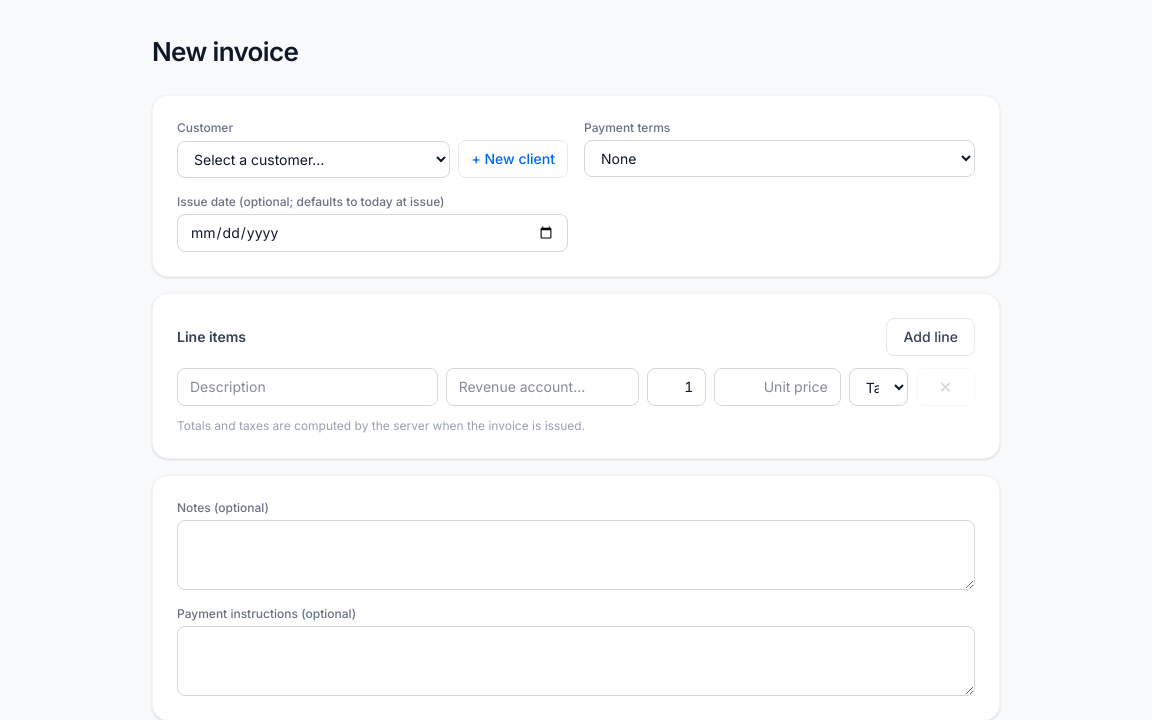
InvoiceForm revenue-account picker › offers revenue accounts only
Click the dropdown labelled "Revenue account".
click(542, 387)  # box [446,368,639,406]
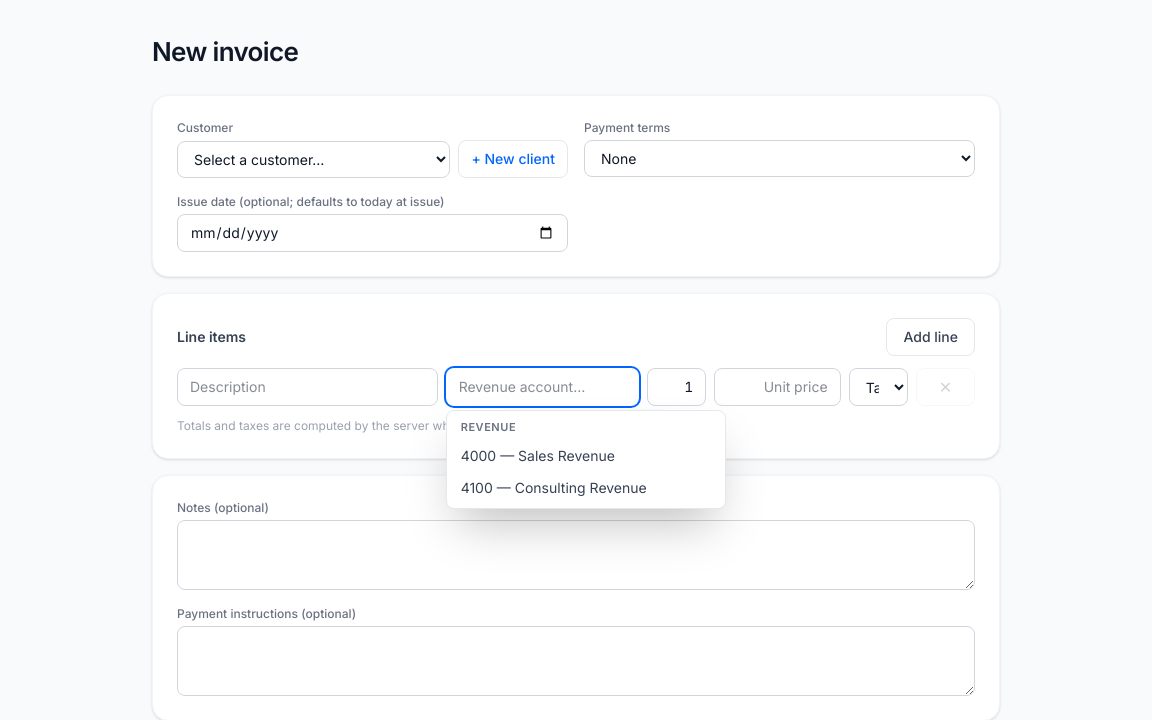
# A non-revenue account cannot be reached by its code either.
Type keys "5000"
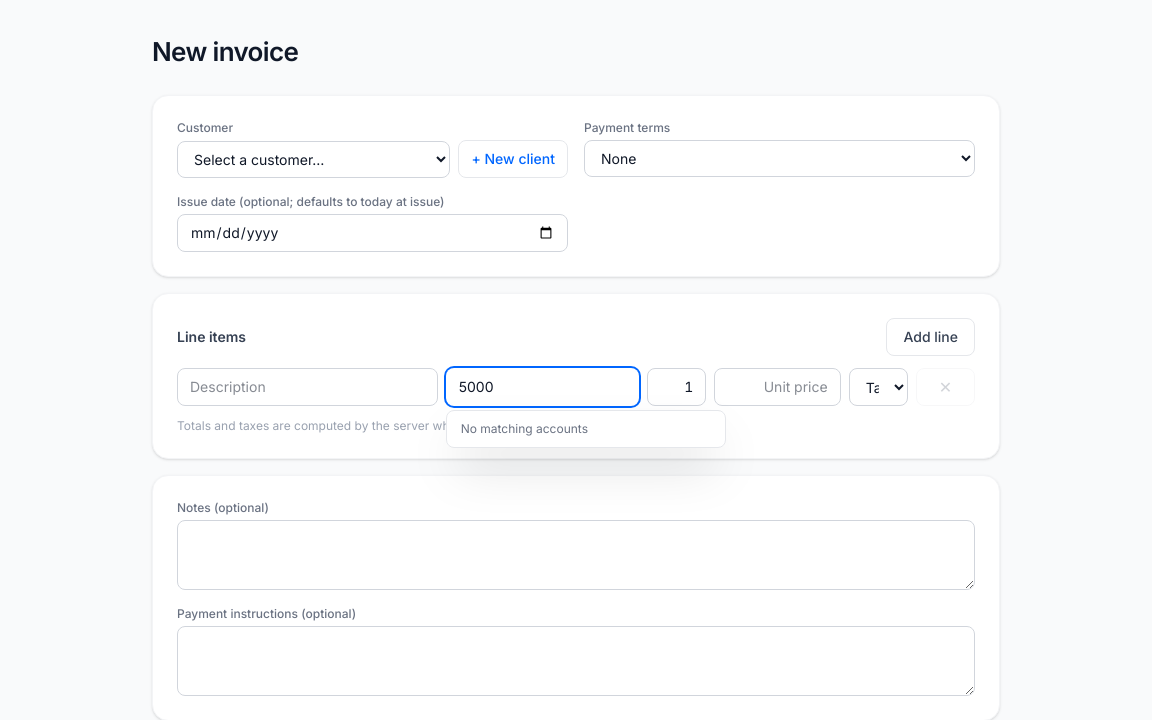
expect the text "No matching accounts" is shown: met, box [461,421,588,436]
